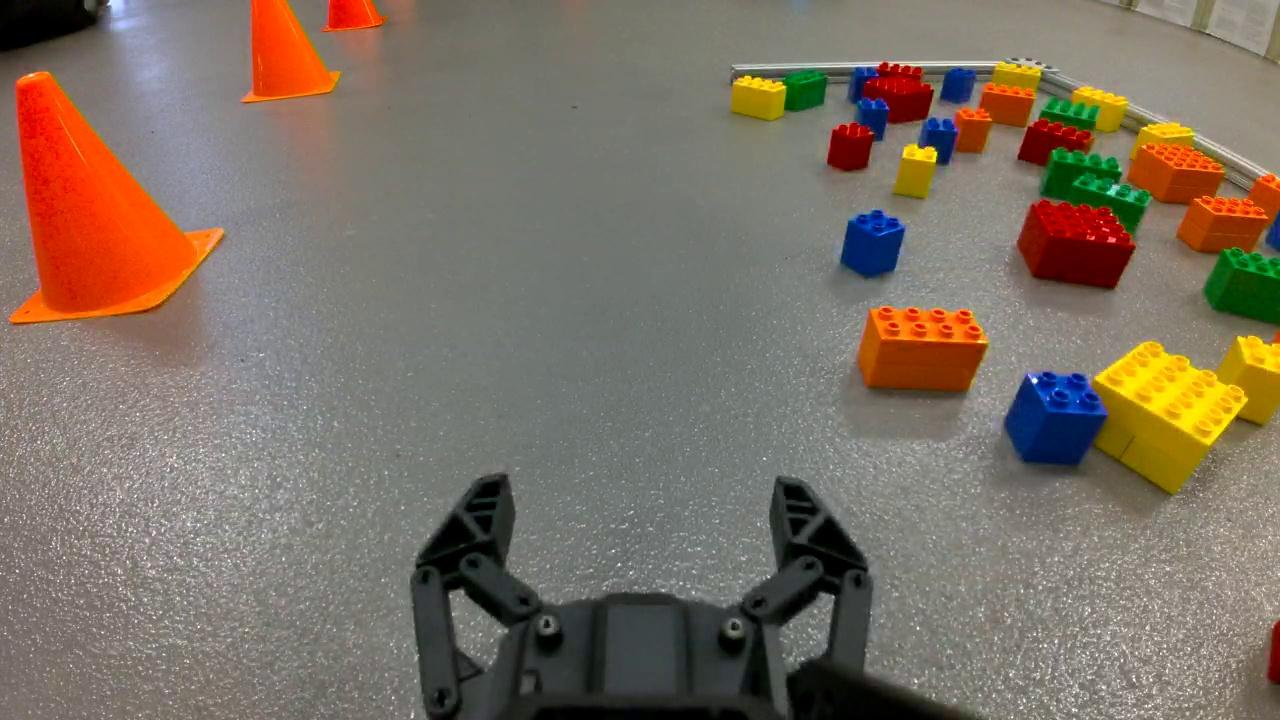2x2lego: (1004, 370, 1109, 468), (843, 208, 906, 278), (979, 81, 1037, 128), (893, 144, 938, 199), (828, 121, 875, 173), (952, 105, 993, 152), (1070, 83, 1131, 112), (991, 61, 1049, 87), (939, 64, 975, 103), (918, 115, 959, 148), (855, 93, 892, 126)
2x4lego: (854, 306, 990, 393), (1176, 195, 1270, 245), (1068, 170, 1153, 225), (1041, 142, 1126, 181), (728, 73, 788, 121), (1017, 115, 1095, 150), (782, 70, 829, 111), (1138, 120, 1197, 145), (875, 61, 926, 78)
4x4lego: (1092, 340, 1248, 496), (1018, 200, 1136, 290), (864, 72, 935, 105), (1040, 96, 1101, 125)
